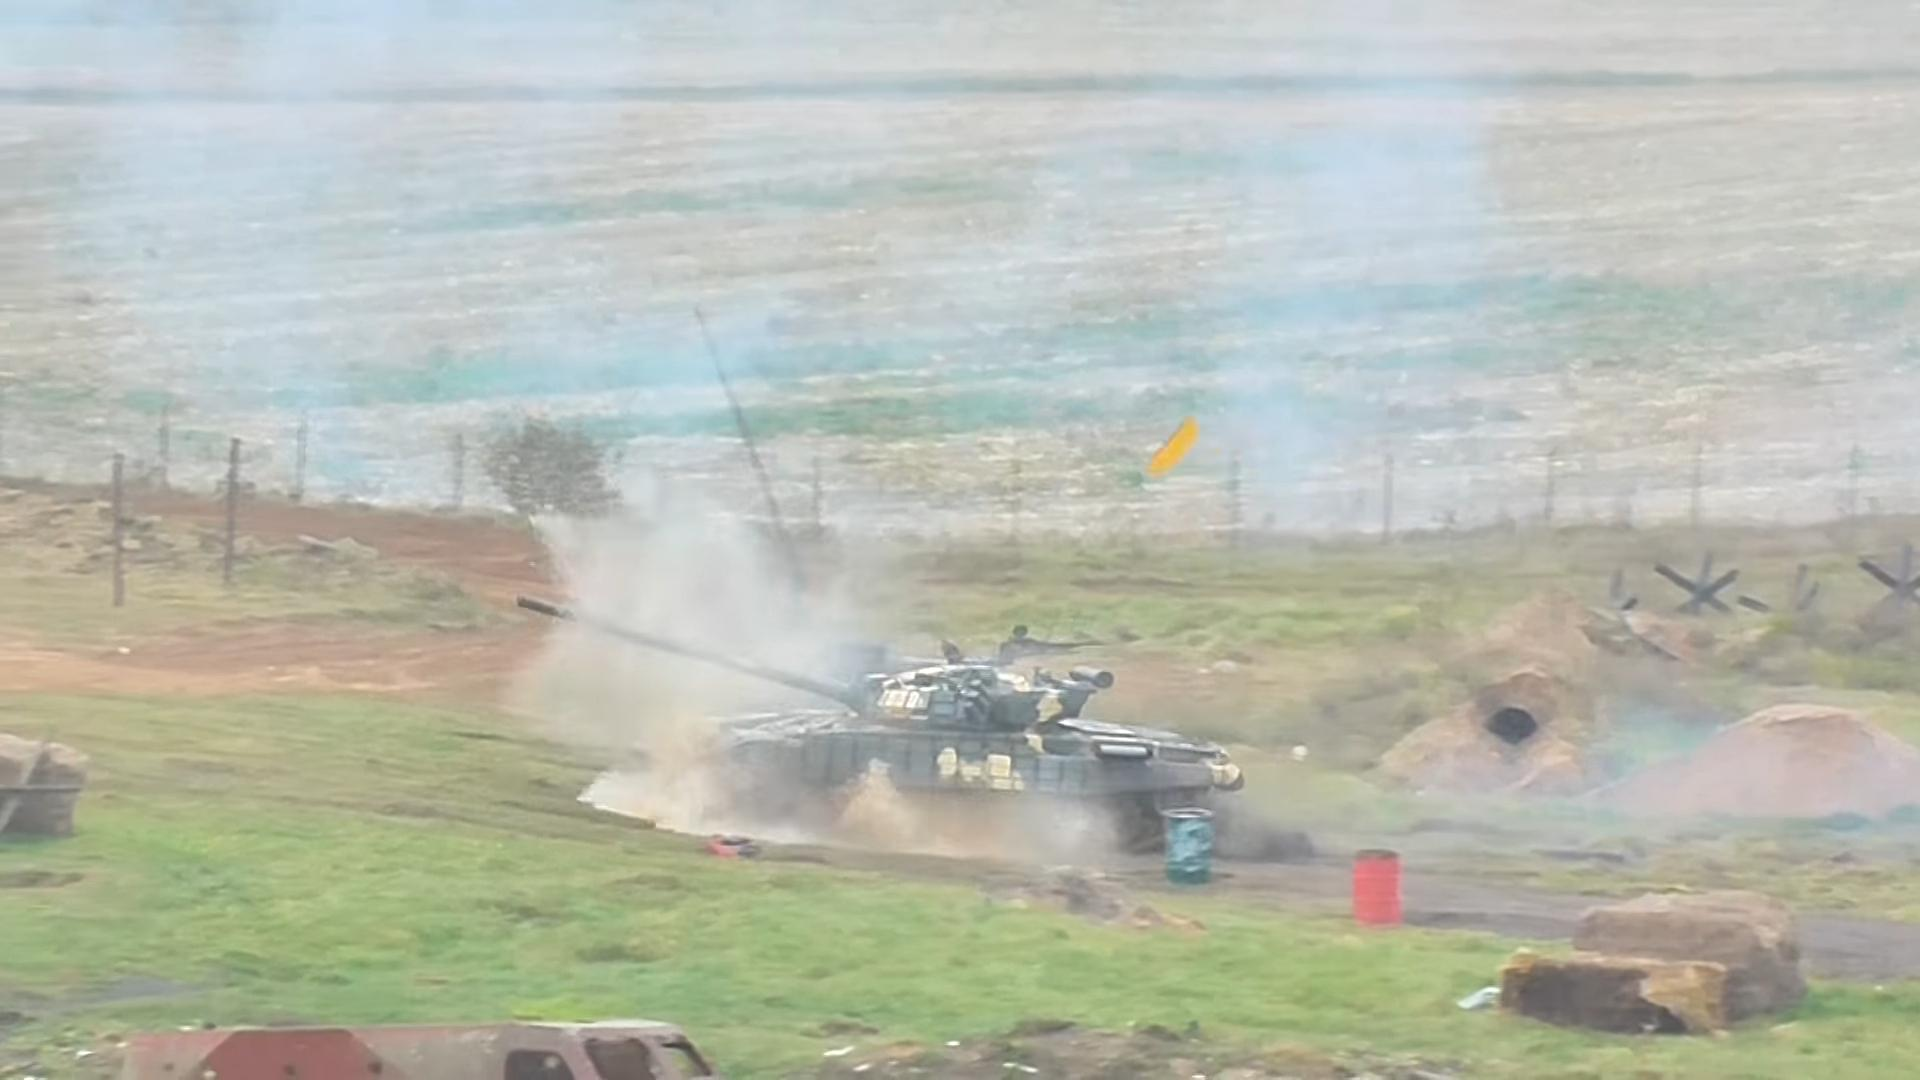tank: (517, 592, 1242, 856)
